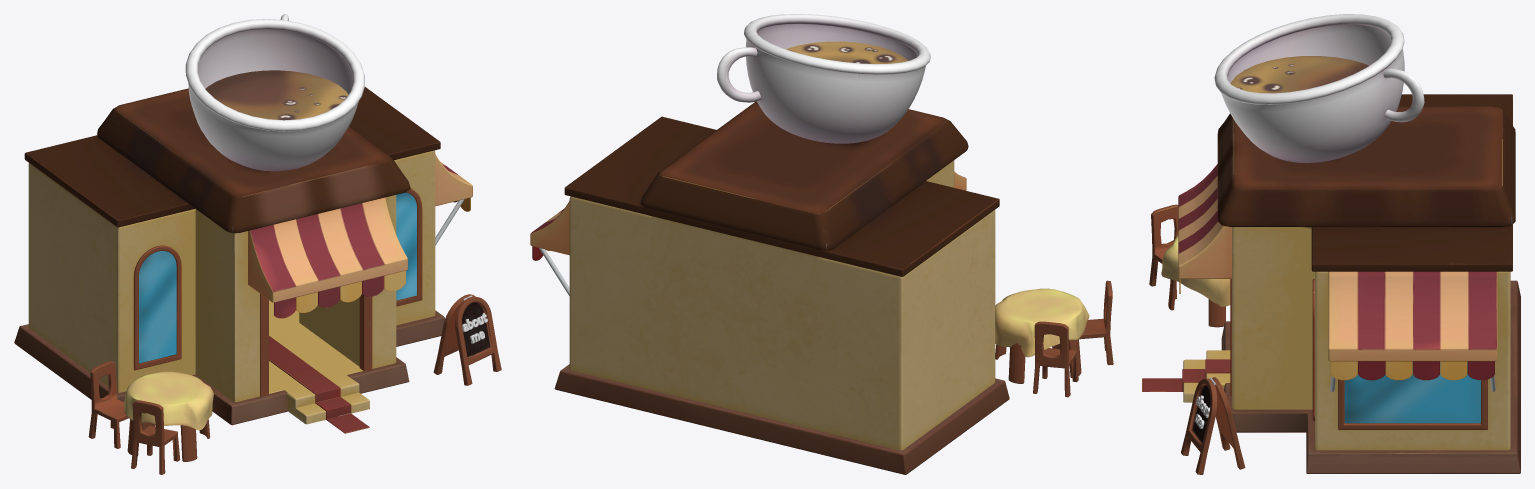
Rendered from coffeeshop.glb.
The picture shows the model from 3 angles, left to right: view 1: azimuth 30°, elevation 25°; view 2: azimuth 150°, elevation 25°; view 3: azimuth 270°, elevation 25°; orthographic projection. The views are drawn at different scales.
Visible parts, largest first — view 1: building1; view 2: building1; view 3: building1.
Part boxes in pixels (x1,y1,x2,y2): building1: (14,14,501,474); building1: (530,14,1113,474); building1: (1142,14,1520,474).
Size of the model in its own units: 12.23 by 9.21 by 9.05.
1 material, 1 textured.
